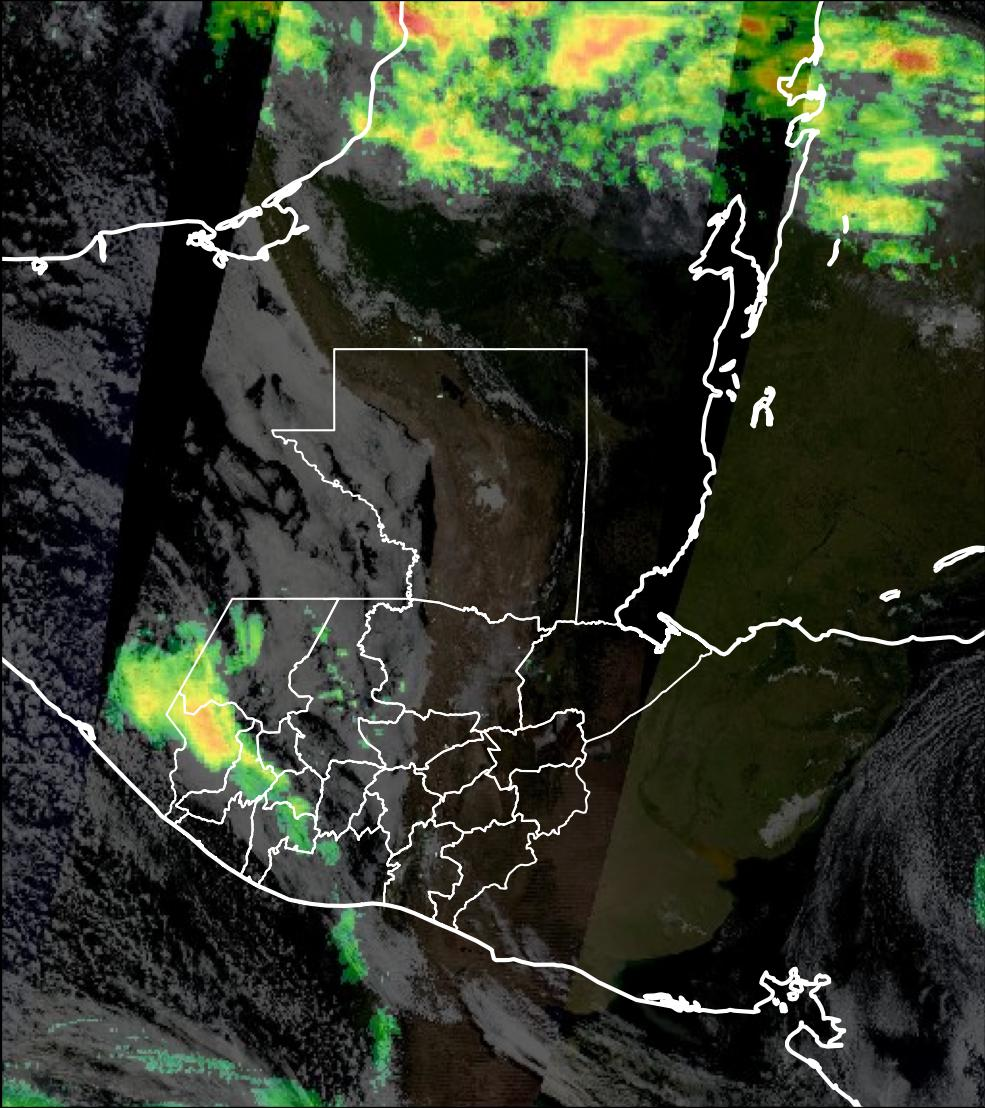precipitacion: (379, 1, 449, 68), (877, 38, 946, 83)
